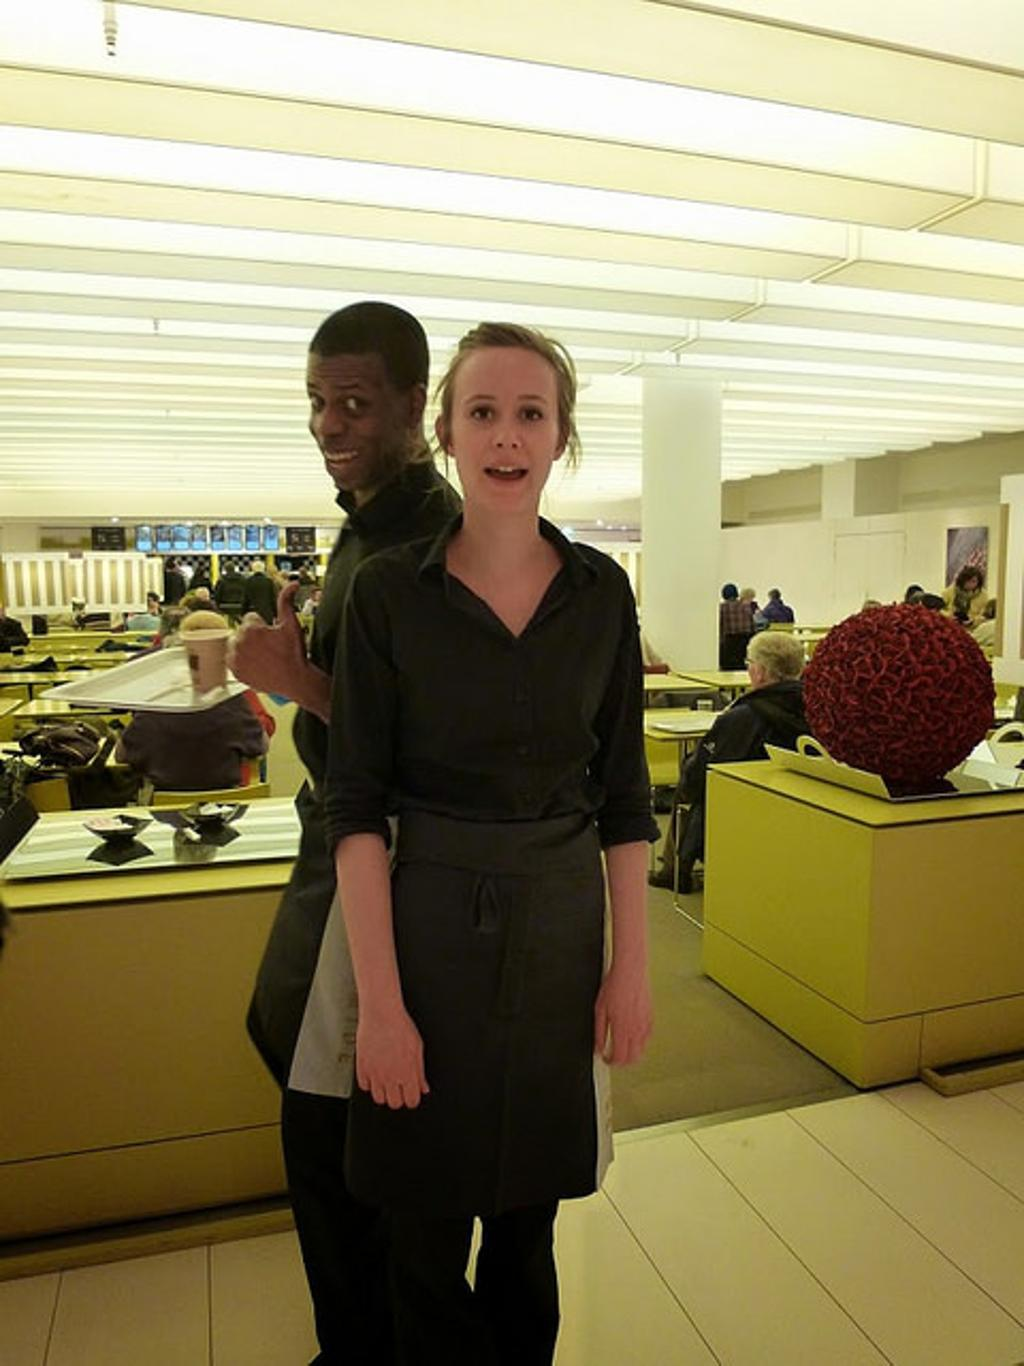face: (453, 344, 565, 515), (304, 349, 403, 490)
